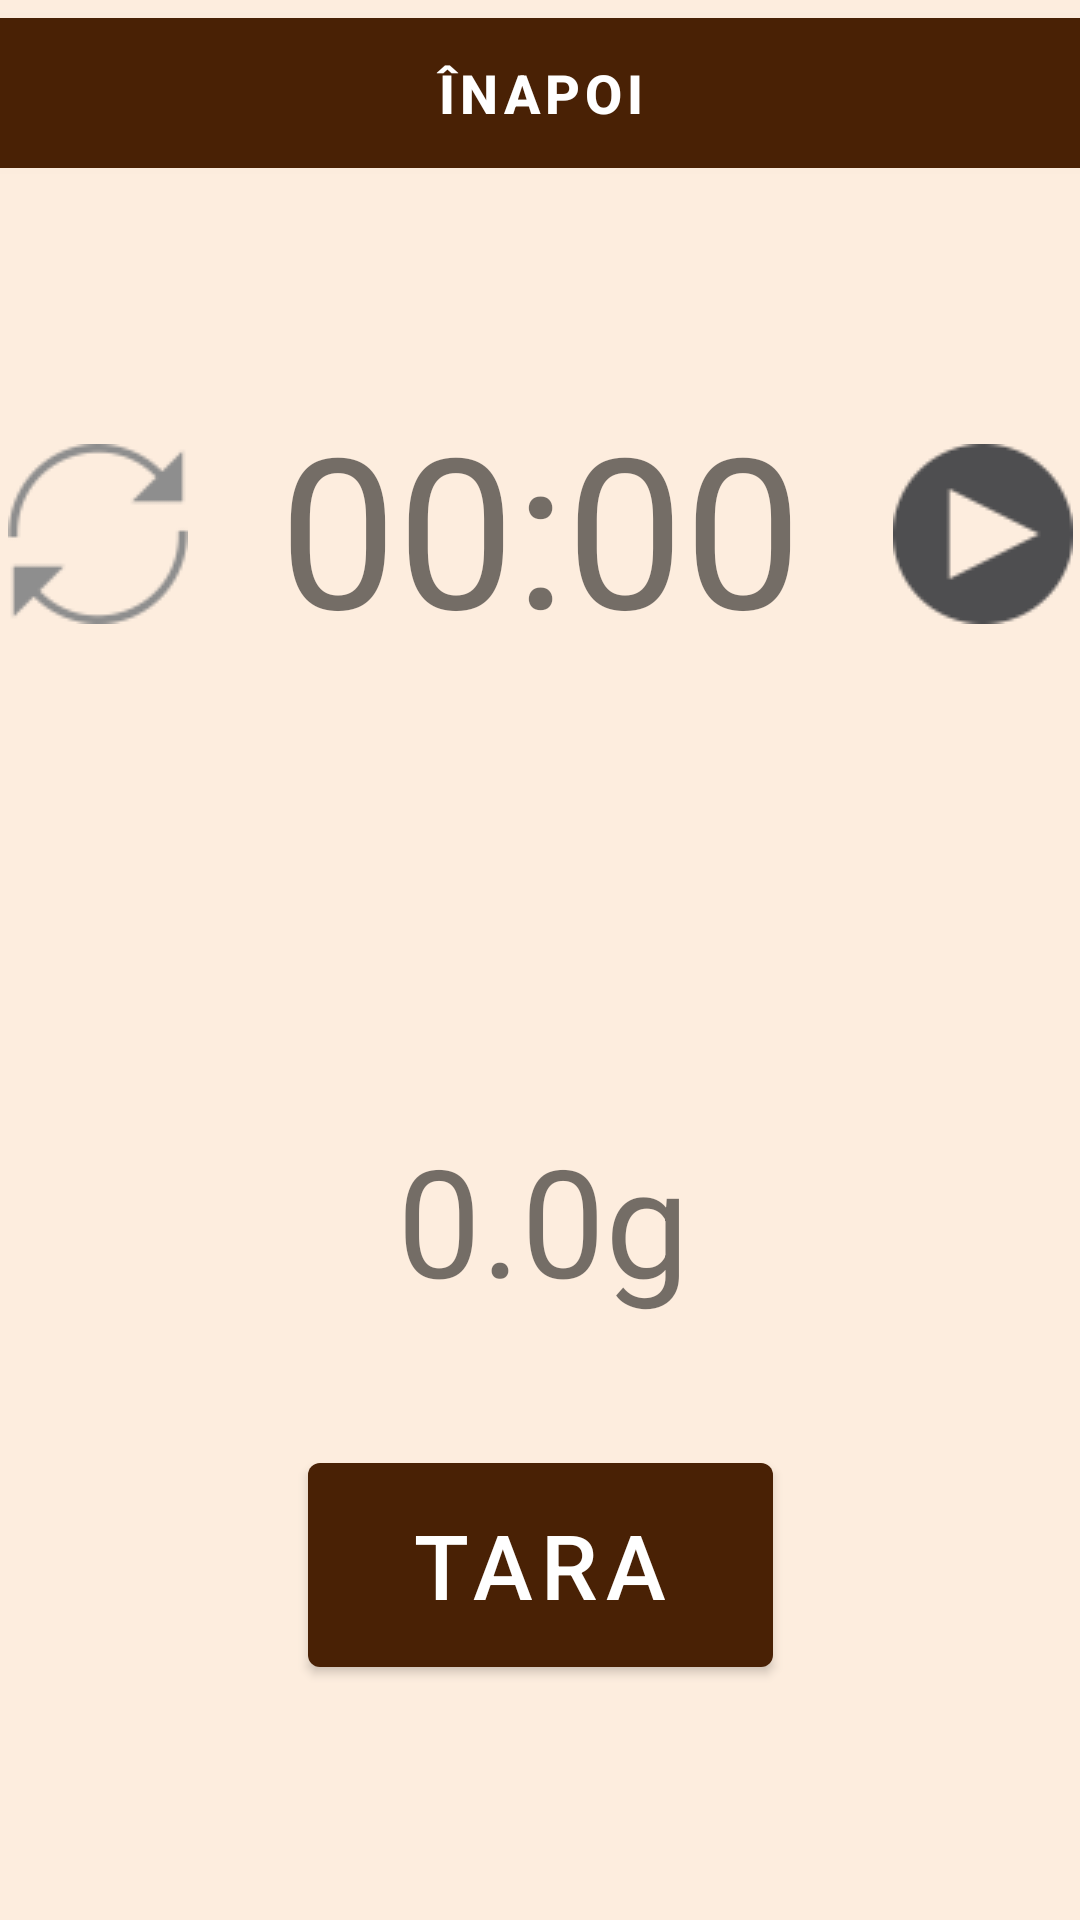

Point at icon controls on the screen. Image size 1080×1920, points as [x,y].
play timer: [983,534]
reset timer: [98,534]
